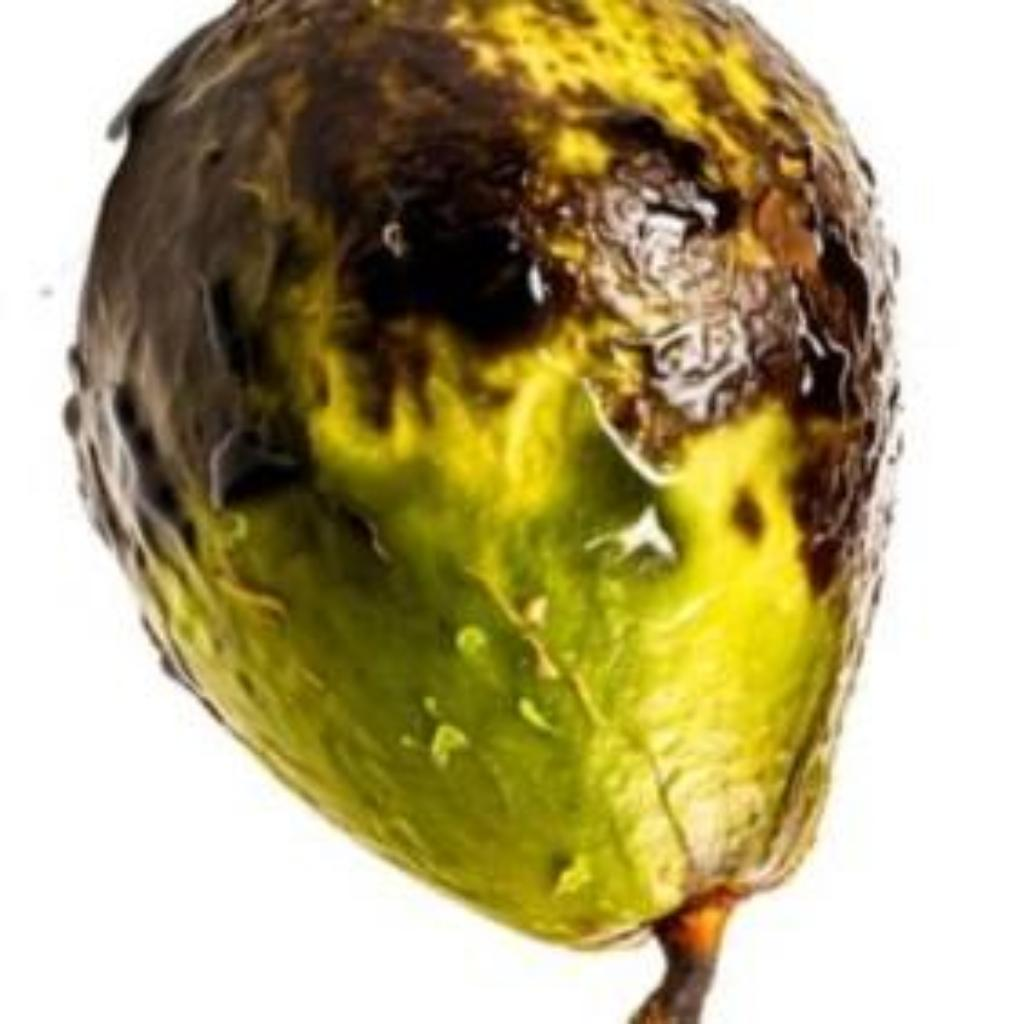Anthracnose: (48, 6, 918, 880)
